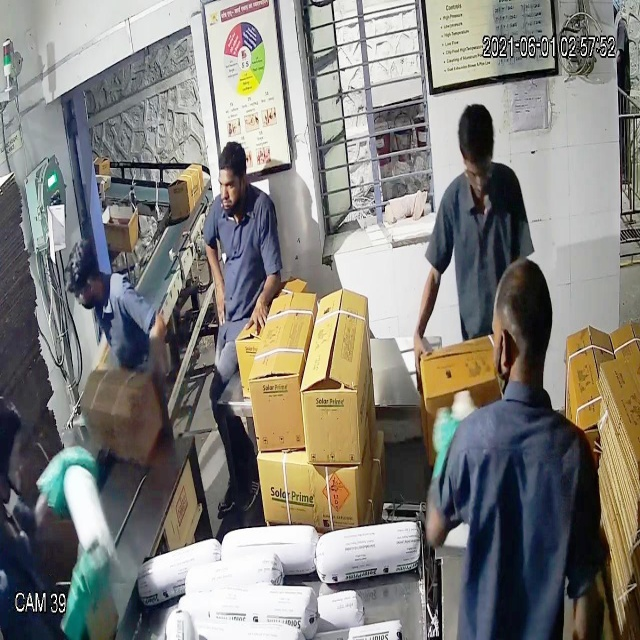Sin_gafas: (213, 166, 249, 196)
